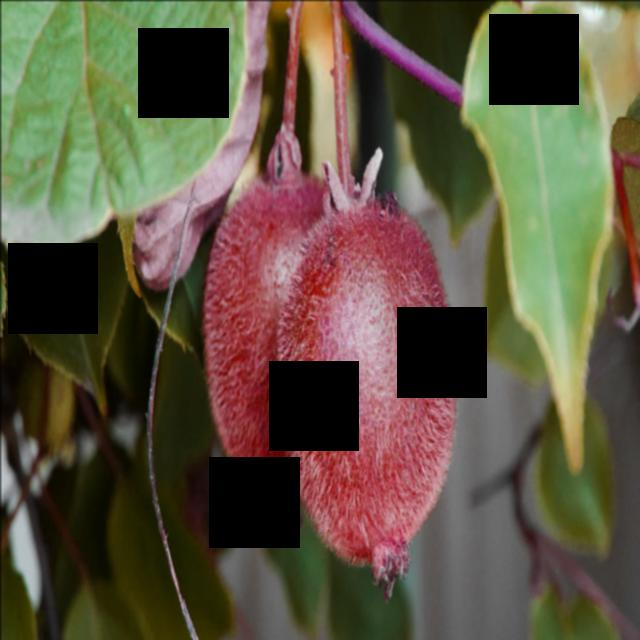kiwi: (272, 197, 465, 593), (196, 160, 334, 520)
